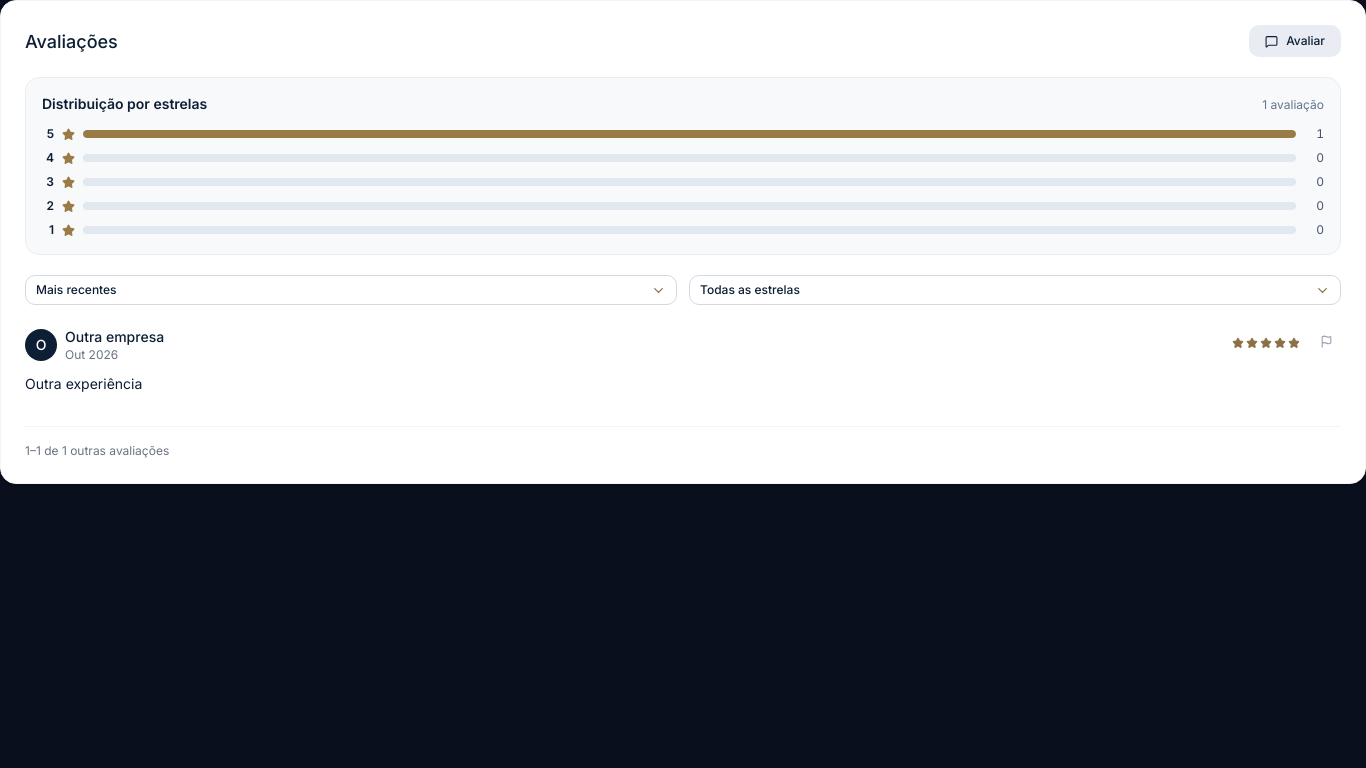
Test case: Formulário de avaliação do perfil público › cria com 201, recarrega o resumo e impede a criação duplicada
Step 1. Click the button "Avaliar" → (1295, 41), box [1249,25,1341,57]
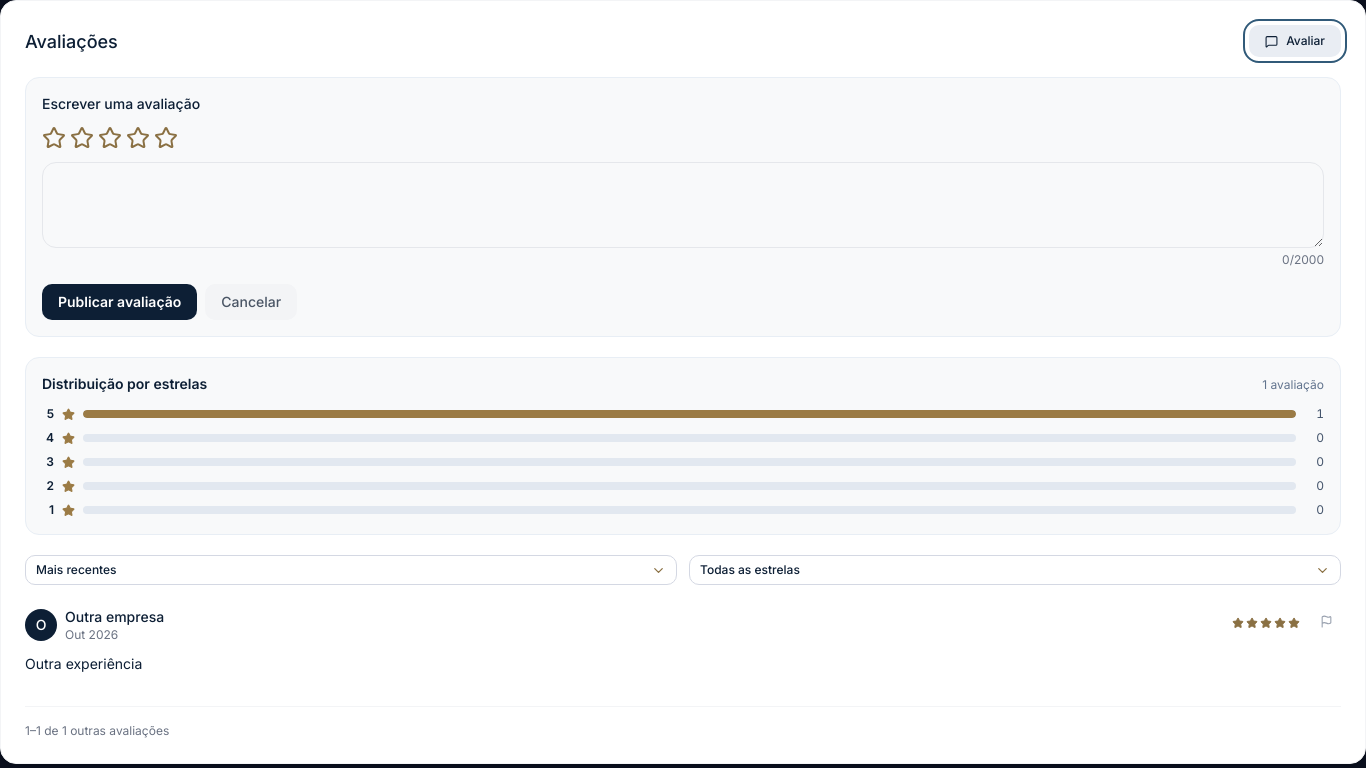
Step 2. Click the radio button named "5 estrelas" → (166, 138), box [154,126,178,150]
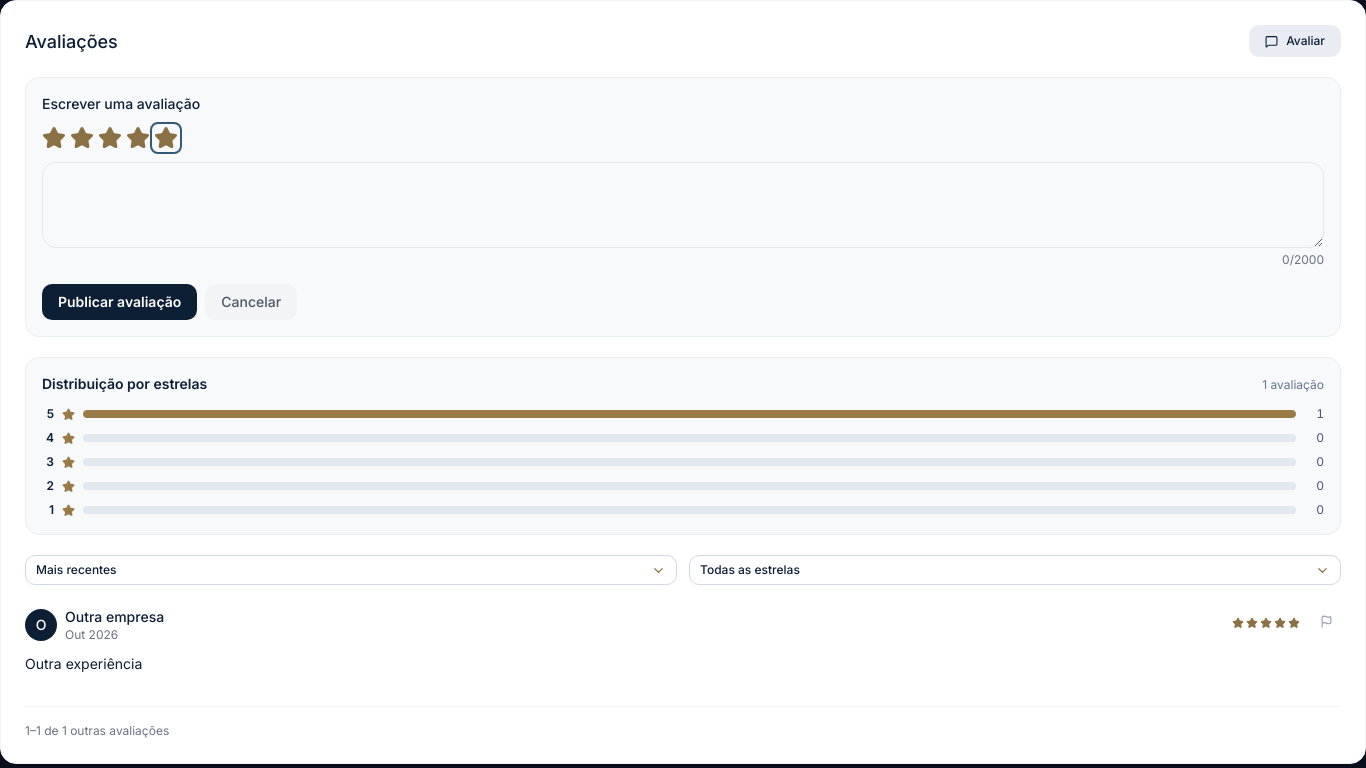
Step 3. Click the radio button named "3" → (110, 138), box [98,126,122,150]
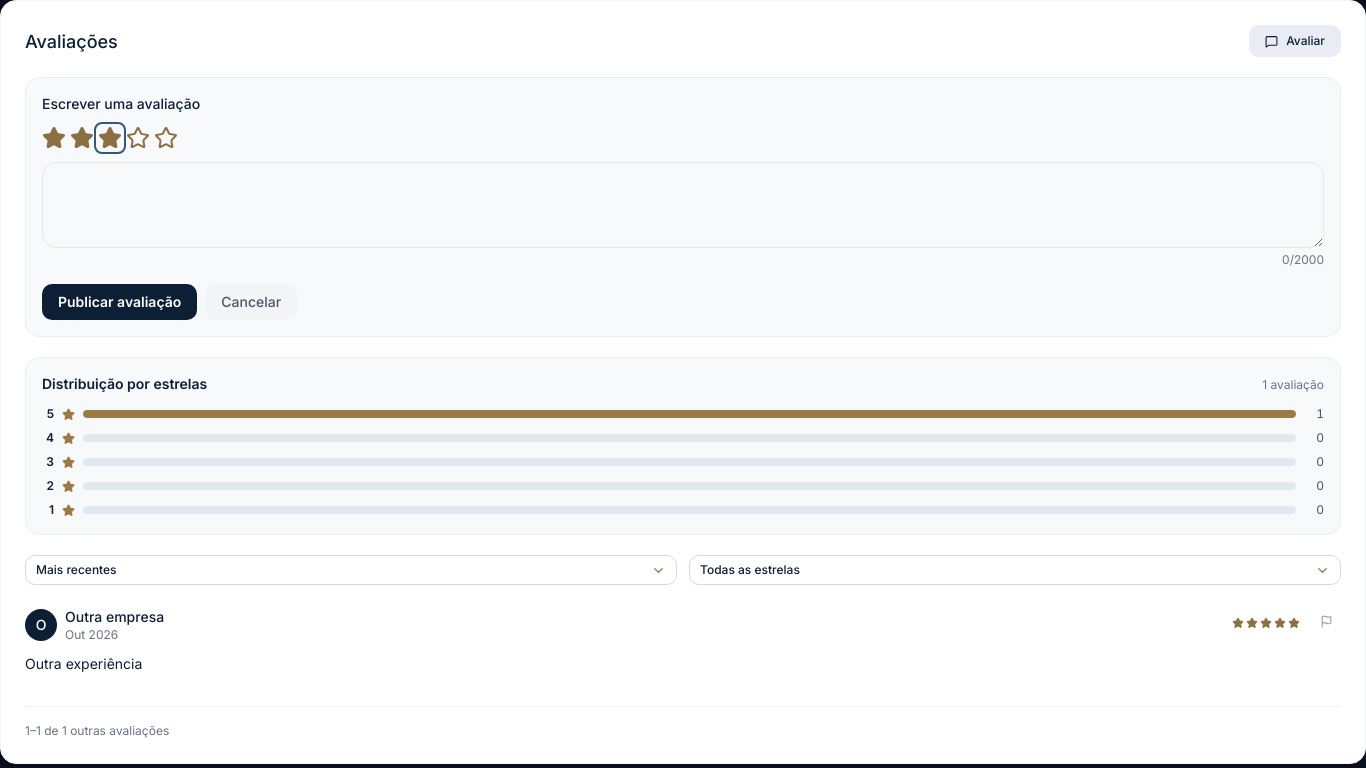
Step 4. Type "Bom serviço" into the text box → (683, 205), box [42,162,1324,248]
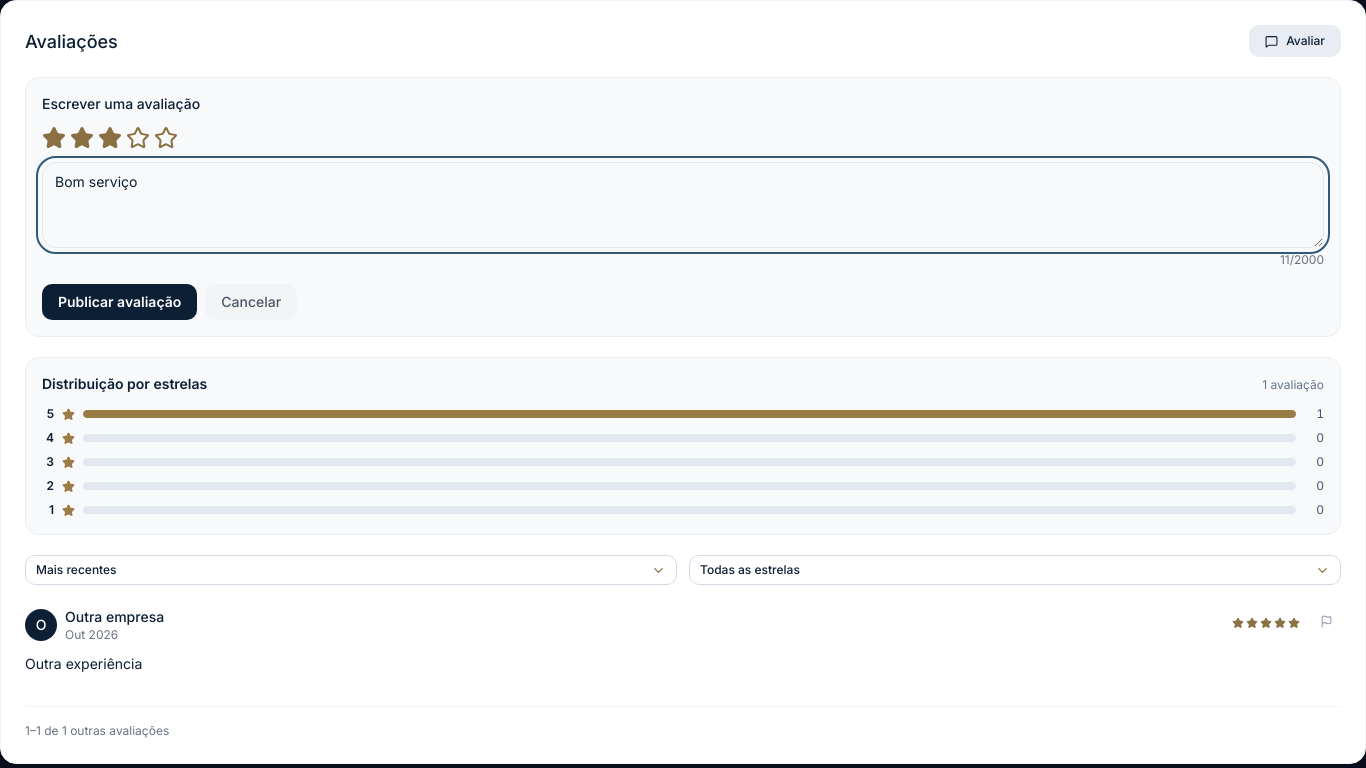
Step 5. Click the button "Publicar avaliação" → (120, 302), box [42,284,197,320]
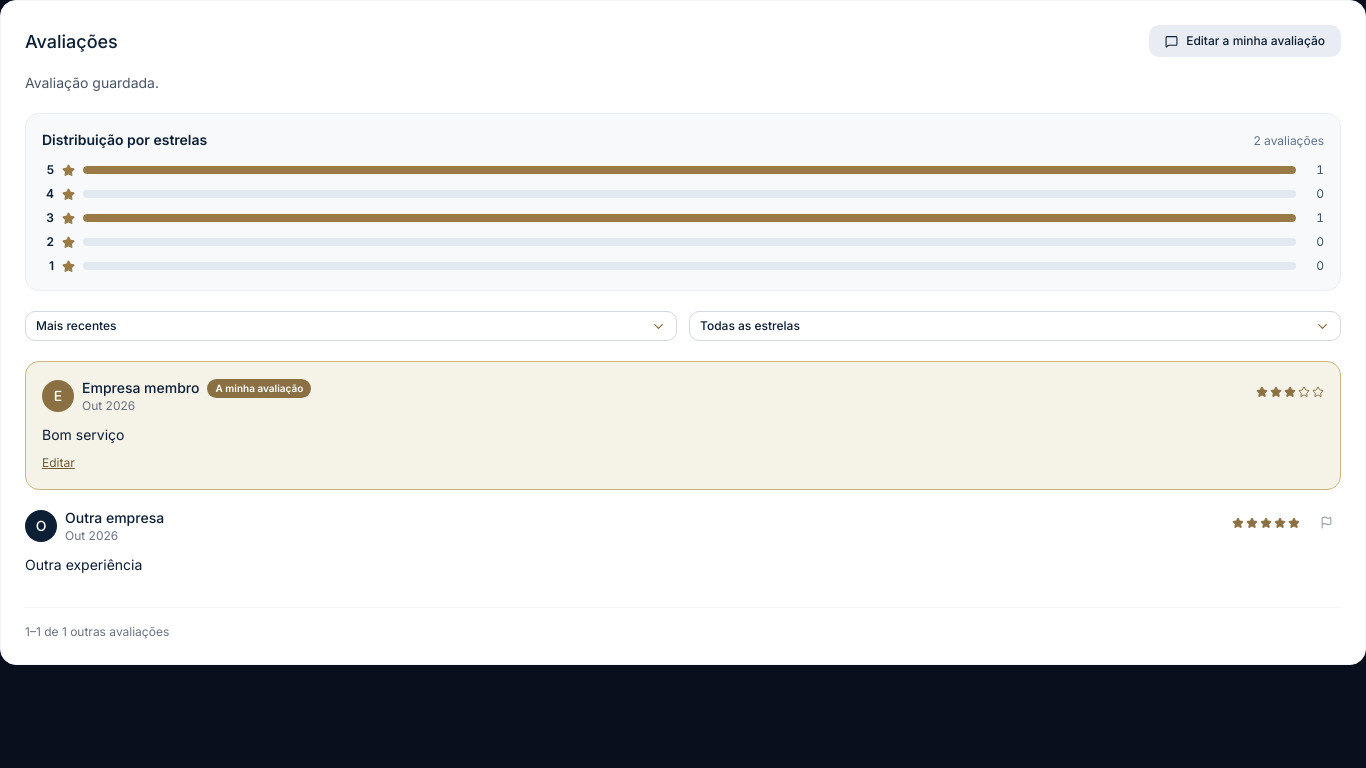
expect the text "A minha avaliação" is shown: met, box [208,378,311,398]
expect the text "Bom serviço" is shown once: met, box [42,426,124,443]
expect the button "Avaliar" is gone: met
